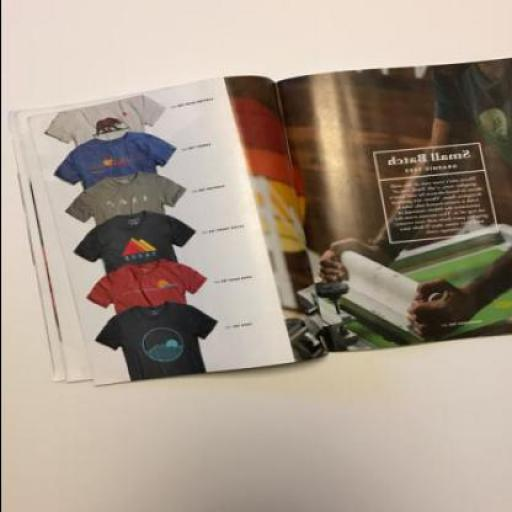paper: (6, 55, 511, 386), (7, 75, 327, 385), (273, 54, 511, 350)
